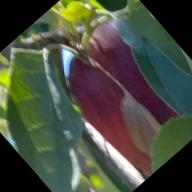Apples: (44, 16, 192, 184)
